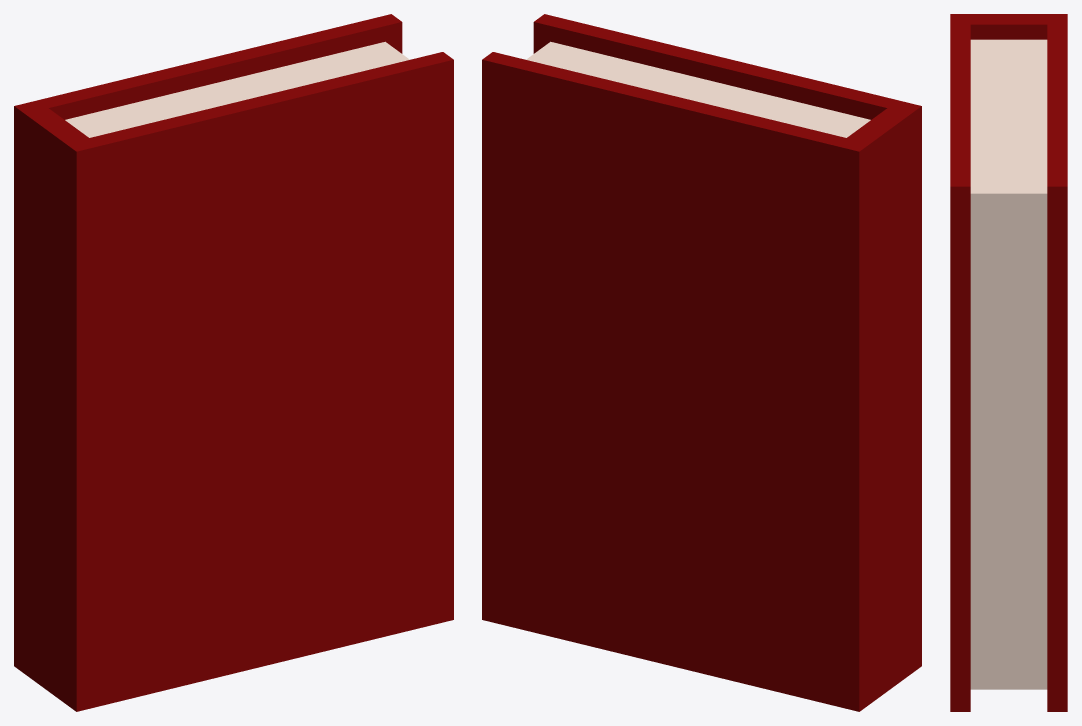
The model's file is BookRed.fbx.
The picture shows the model from 3 angles, left to right: view 1: azimuth 30°, elevation 25°; view 2: azimuth 150°, elevation 25°; view 3: azimuth 270°, elevation 25°; orthographic projection. The views are drawn at different scales.
Visible parts, largest first — view 1: RedBook; view 2: RedBook; view 3: RedBook.
Boxes of the visible parts, x1,y1,x2,y2 form: RedBook: (14,14,453,711); RedBook: (482,14,921,711); RedBook: (950,14,1067,711).
Bounding box in the file's own units: 0.2269 × 0.322 × 0.065.
